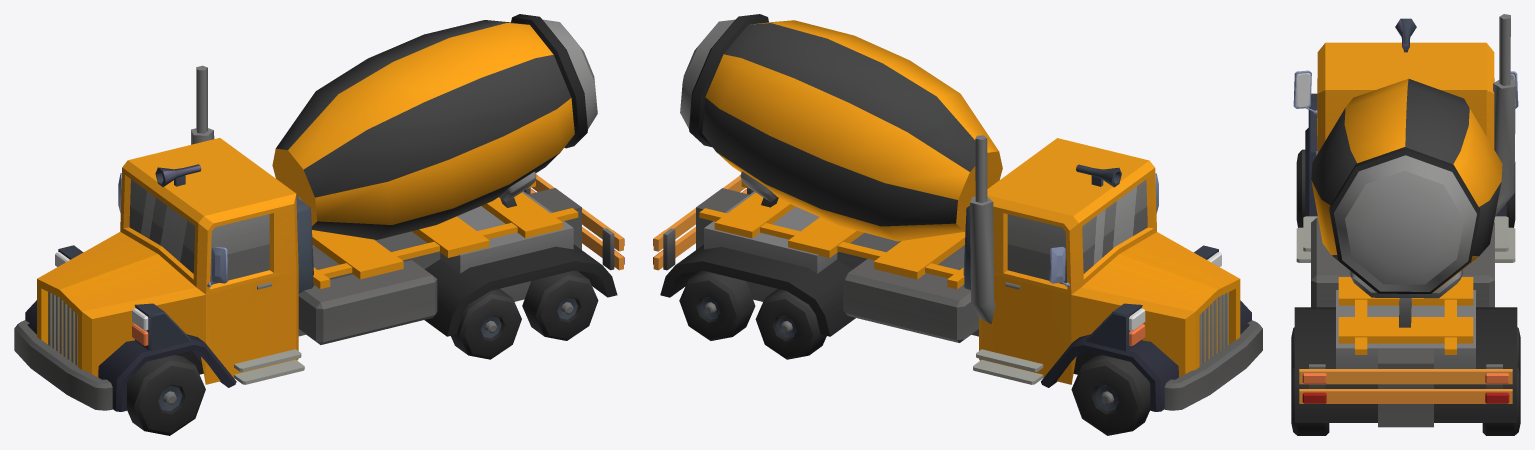
The model's file is Concrate Truck.gltf.
3 views of the same model, side by side, from view 1: azimuth 30°, elevation 25°; view 2: azimuth 150°, elevation 25°; view 3: azimuth 270°, elevation 25° (orthographic). The views are drawn at different scales.
Parts seen in each view (by area): view 1: ConcrateTruck, FL, RL, ML; view 2: ConcrateTruck, FR, RR, MR; view 3: ConcrateTruck, FL, RR, RL, FR.
Part boxes in pixels (<box>): ConcrateTruck: <box>14,14,624,411</box>; FL: <box>127,355,205,435</box>; RL: <box>522,270,598,340</box>; ML: <box>451,288,521,359</box>; ConcrateTruck: <box>653,14,1262,411</box>; FR: <box>1071,355,1150,435</box>; RR: <box>679,270,755,340</box>; MR: <box>755,289,826,359</box>; ConcrateTruck: <box>1293,14,1518,427</box>; FL: <box>1296,149,1305,227</box>; RR: <box>1482,367,1520,435</box>; RL: <box>1291,367,1329,435</box>; FR: <box>1506,162,1515,227</box>.
Size of the model in its own units: 5.9 by 2.99 by 2.08.
Materials: 4 (4 with a texture image).
